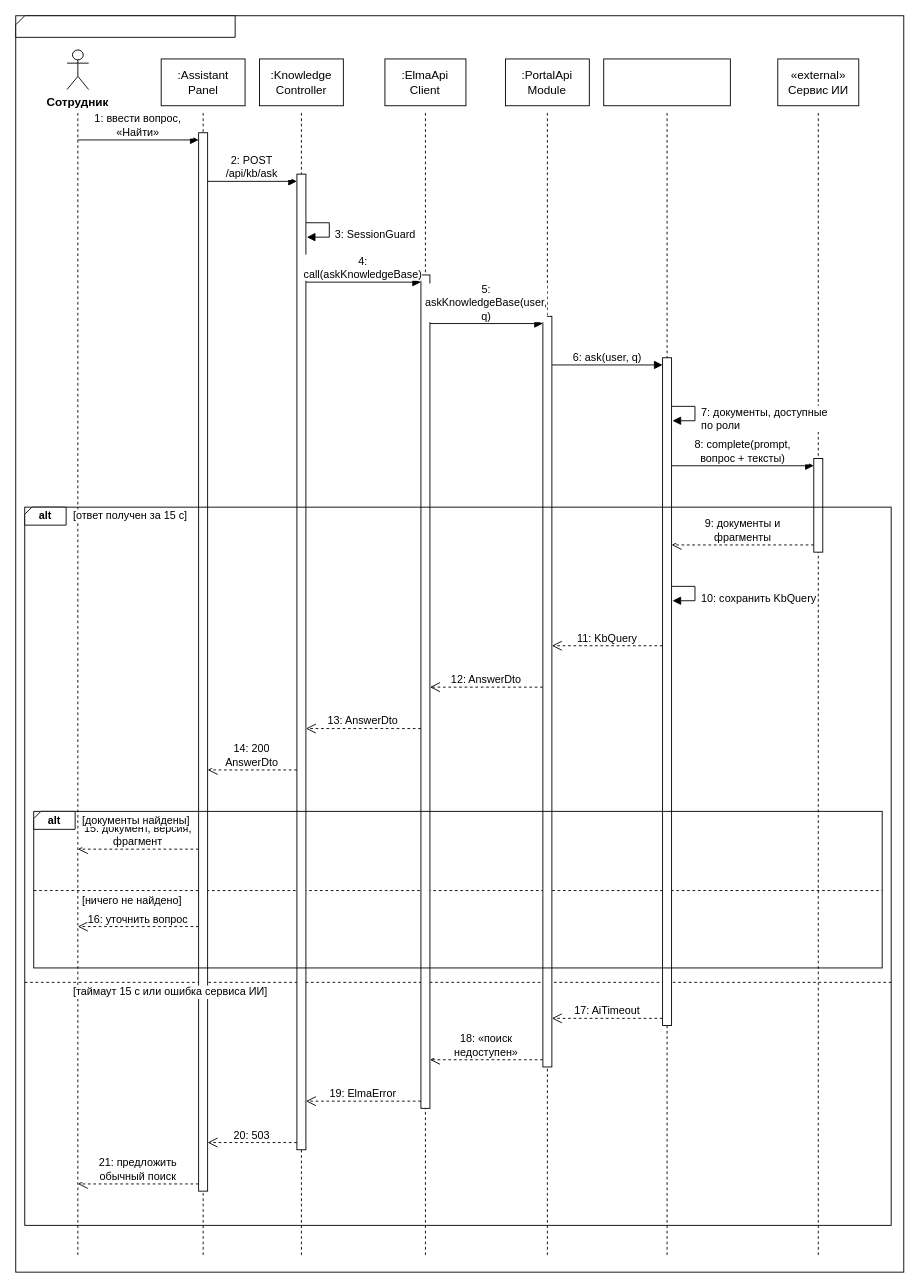
Some shapes in this 920 by 1288 pixel diagram are drawn without their labels. The centre of each missing label's shape, as x and y in pixels:
":KnowledgeSearch Service" goes at point (666, 82).
"sd UC-9 Поиск в базе знаний" goes at point (125, 26).
